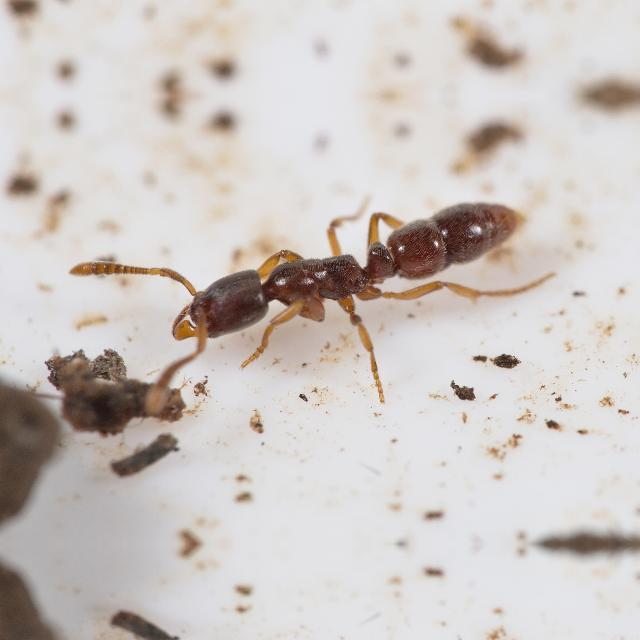Ponera: (124, 182, 534, 372)
